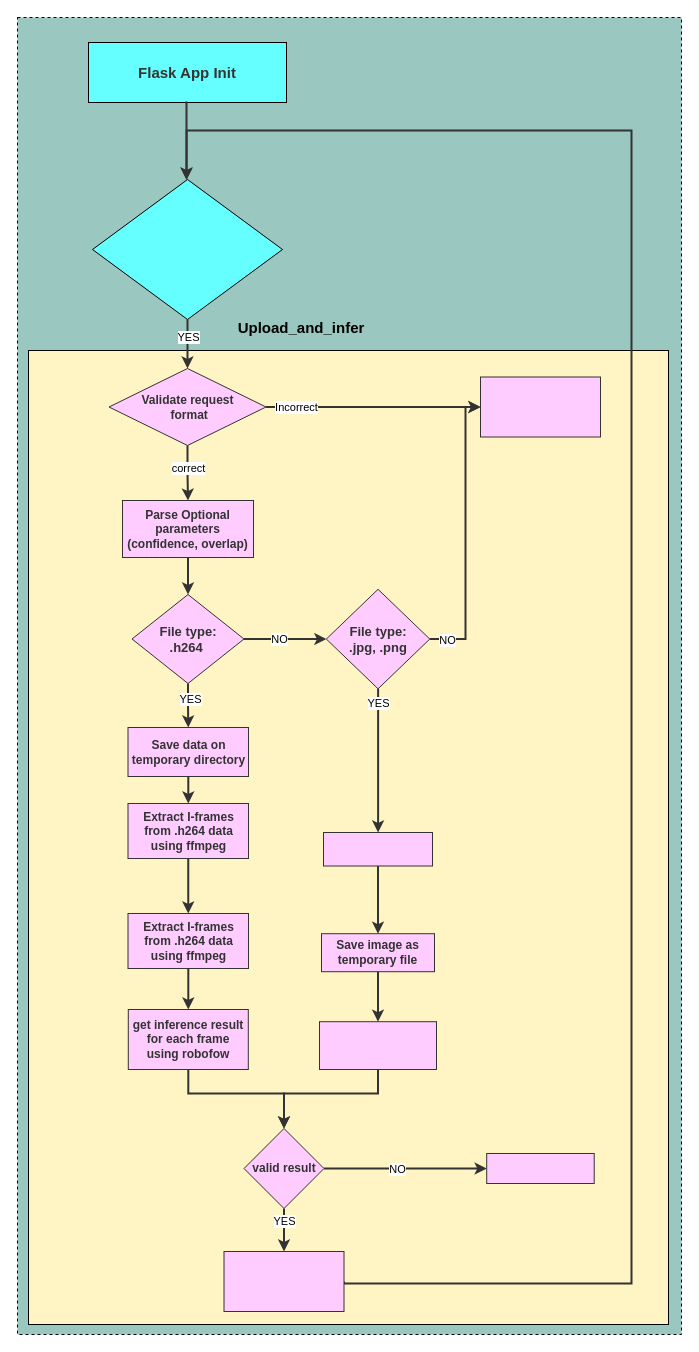
This 699x1352 diagram has some shape labels left out. The shapes that lost their labels are listed below. From the top down, each one's centre as x and y in pixels, then its label:
(187,249): Request received on endpoint "/infer"
(540,406): return error 400
(377,849): Process_image
(377,1045): get inference result using robofow
(540,1168): return error 500
(283,1281): return result response
